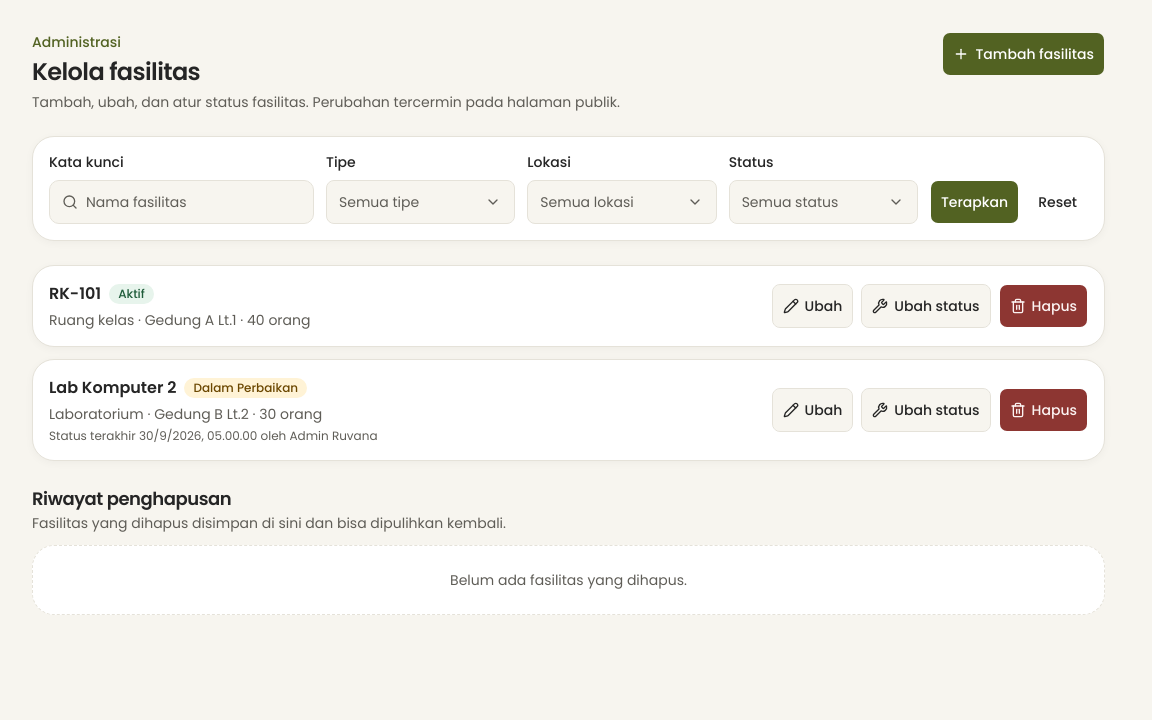
it: AdminFacilities › membuka sheet ubah status dengan peringatan dampak
Click the button "Ubah status" in the row of "RK-101".
click(926, 306)  # box [861, 284, 991, 328]
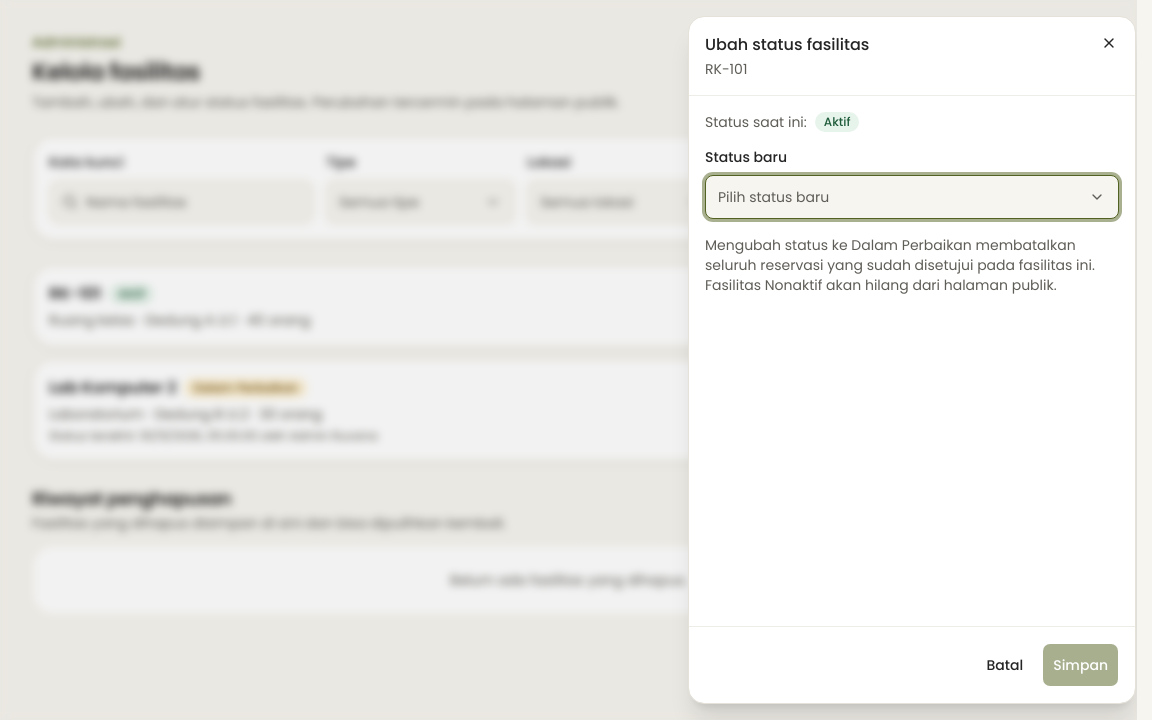
Now the heading "Ubah status fasilitas" is shown, box [705, 33, 869, 56]
Now the text "Status saat ini: Aktif" is shown, box [705, 112, 859, 132]
Now the text "membatalkan seluruh reservasi yang sudah disetujui" is shown, box [705, 235, 1095, 295]
